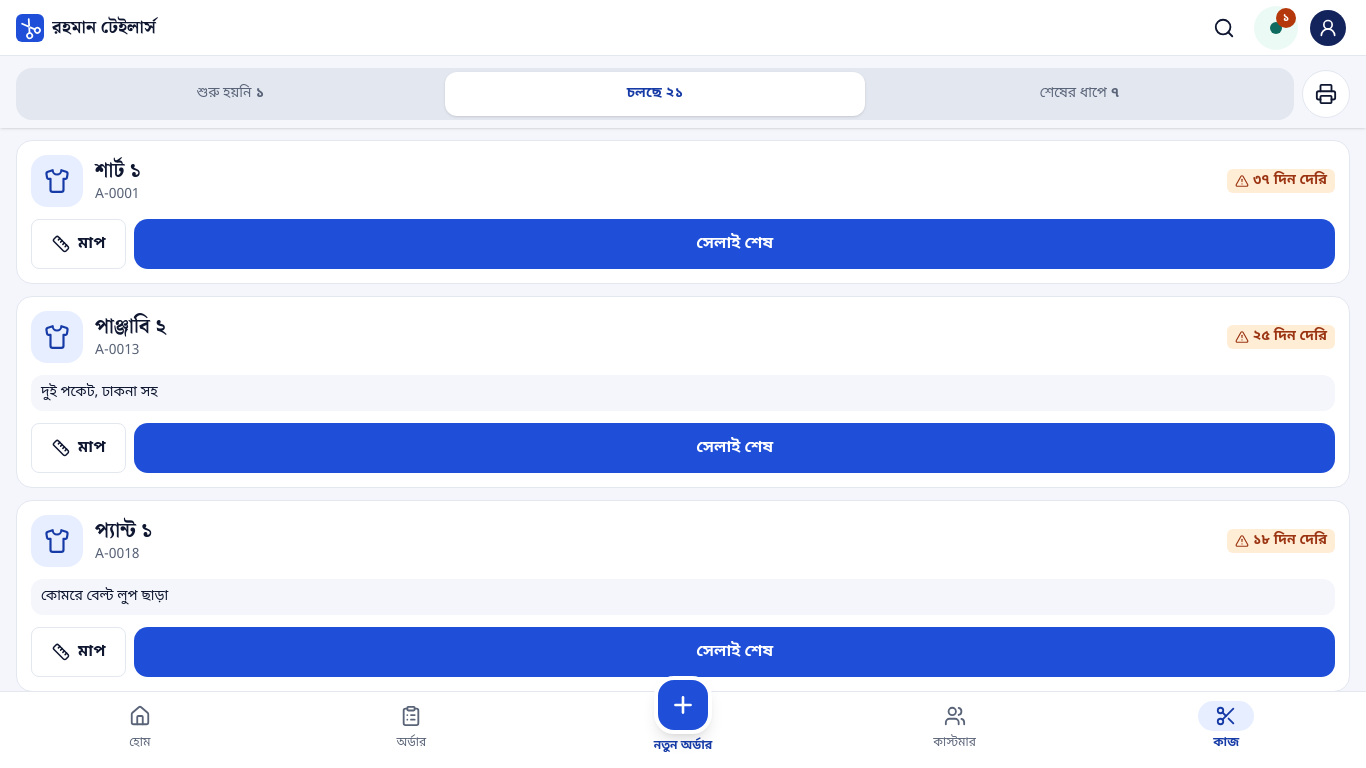
Test: Phone work list › shows a garment’s measurements as tiles with when they were taken, and closes with the ✕
This screenshot has width=1366, height=768.
Click the button "মাপ" below "A-0001" at point(79, 244), box [31, 219, 126, 269]
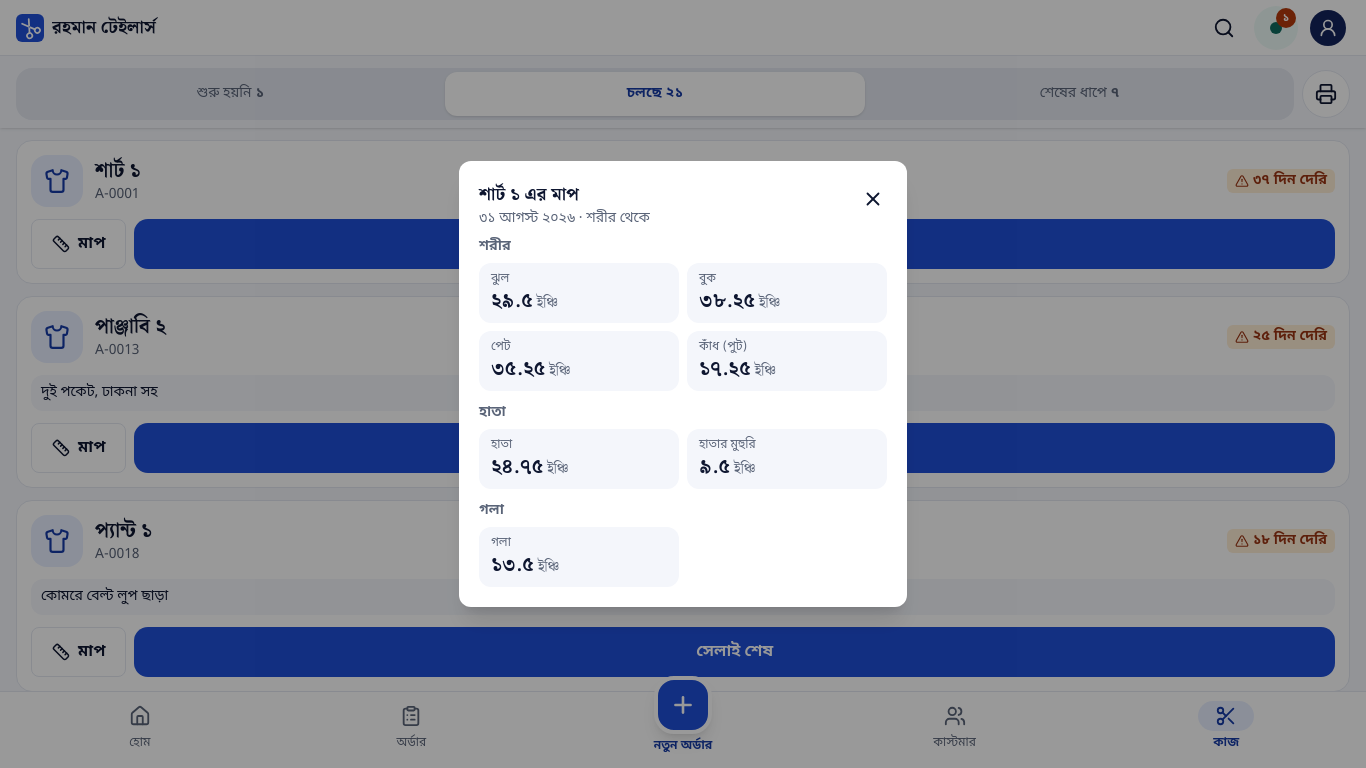
Result: the text "৩১ আগস্ট ২০২৬ · শরীর থেকে" is shown at [479, 209, 650, 228]
Result: the list item "ঝুল ২৯.৫ইঞ্চি" is shown at [479, 263, 679, 323]
Result: the button named "বন্ধ করুন" is shown
Click the button named "বন্ধ করুন" at point(873, 199), box [851, 177, 895, 221]
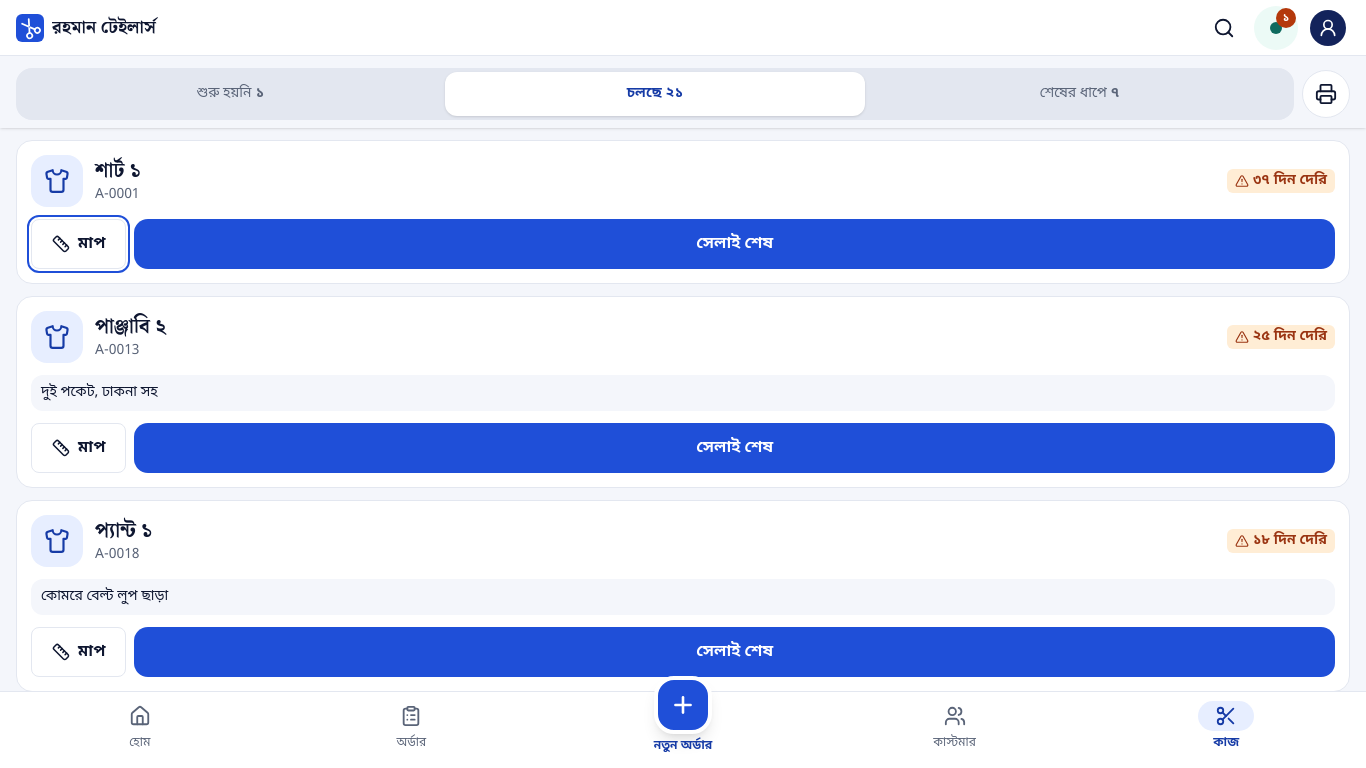
Result: the dialog is gone
